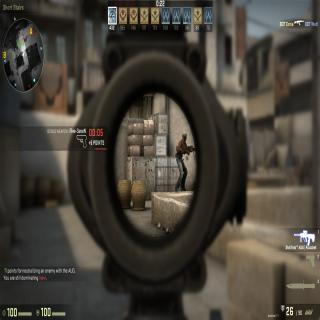T-Body: (175, 130, 188, 191)
T-Head: (182, 130, 188, 142)
